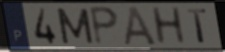4: (32, 6, 58, 46)
A: (123, 5, 159, 47)
H: (149, 5, 188, 47)
M: (54, 7, 96, 46)
P: (88, 5, 121, 48)
T: (185, 8, 209, 45)
